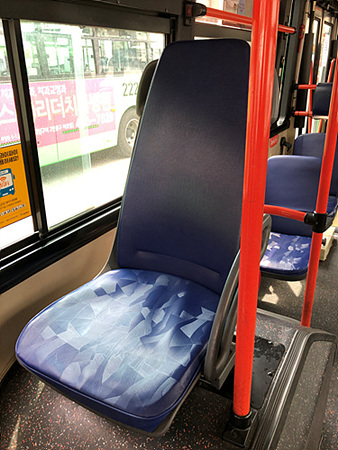seat: (20, 42, 239, 419)
